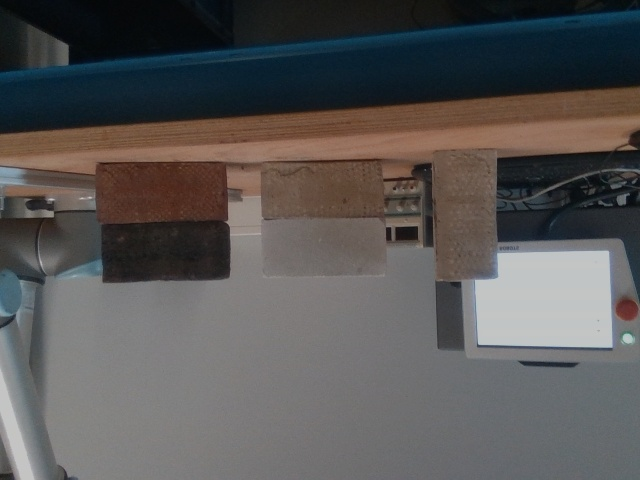brick: (98, 164, 225, 218), (264, 219, 382, 274), (441, 152, 493, 276), (104, 226, 224, 279), (265, 164, 378, 214)
